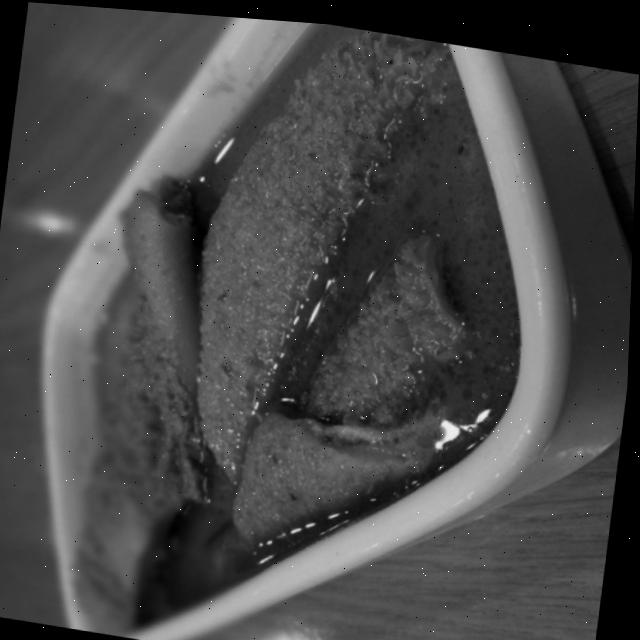熟制海鲜: (6, 1, 638, 640)
